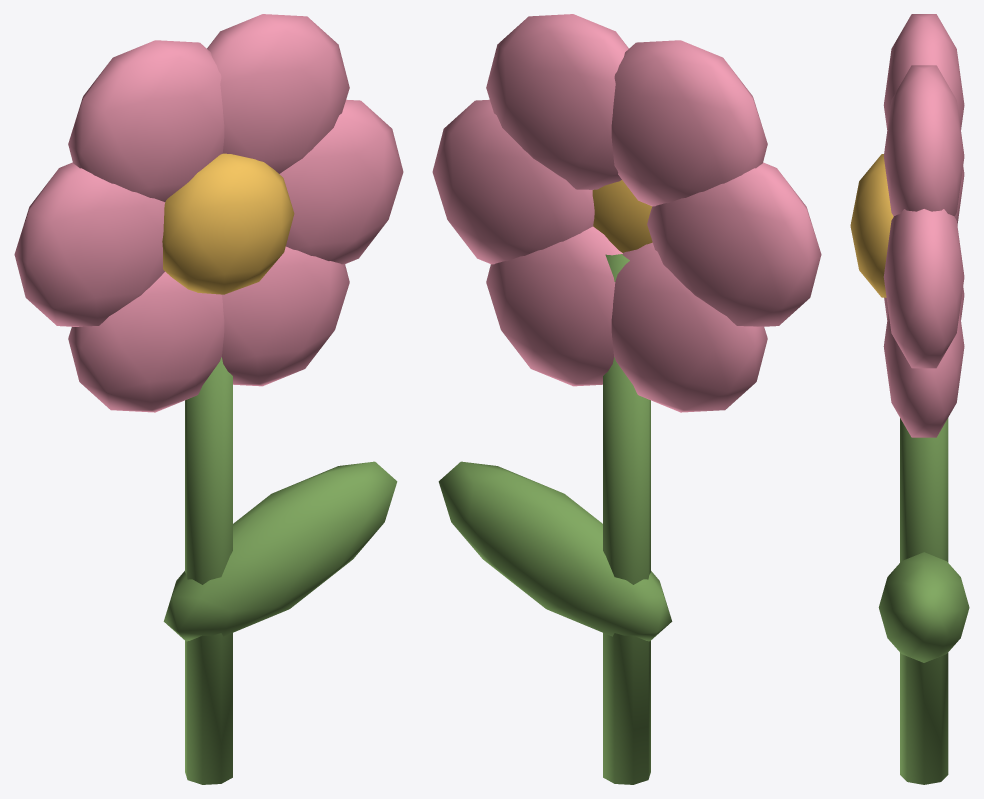
The model's file is garden-flower-pink.glb.
3 renders of one model, left to right at view 1: azimuth 30°, elevation 25°; view 2: azimuth 150°, elevation 25°; view 3: azimuth 270°, elevation 25°, orthographic. The views are drawn at different scales.
Visible parts, largest first — view 1: garden-flower-pink_Petal pink, garden-flower-pink_leaf, Golden pollen; view 2: garden-flower-pink_Petal pink, garden-flower-pink_leaf, Golden pollen; view 3: garden-flower-pink_Petal pink, garden-flower-pink_leaf, Golden pollen.
Part boxes in pixels (x1,y1,x2,y2): garden-flower-pink_Petal pink: (14, 14, 403, 412); garden-flower-pink_leaf: (163, 357, 397, 784); Golden pollen: (162, 153, 294, 294); garden-flower-pink_Petal pink: (432, 14, 821, 412); garden-flower-pink_leaf: (438, 254, 672, 784); Golden pollen: (592, 180, 652, 252); garden-flower-pink_Petal pink: (883, 14, 964, 437); garden-flower-pink_leaf: (878, 418, 969, 784); Golden pollen: (850, 154, 893, 297).
Size of the model in its own units: 0.4207 by 0.7989 by 0.118.
